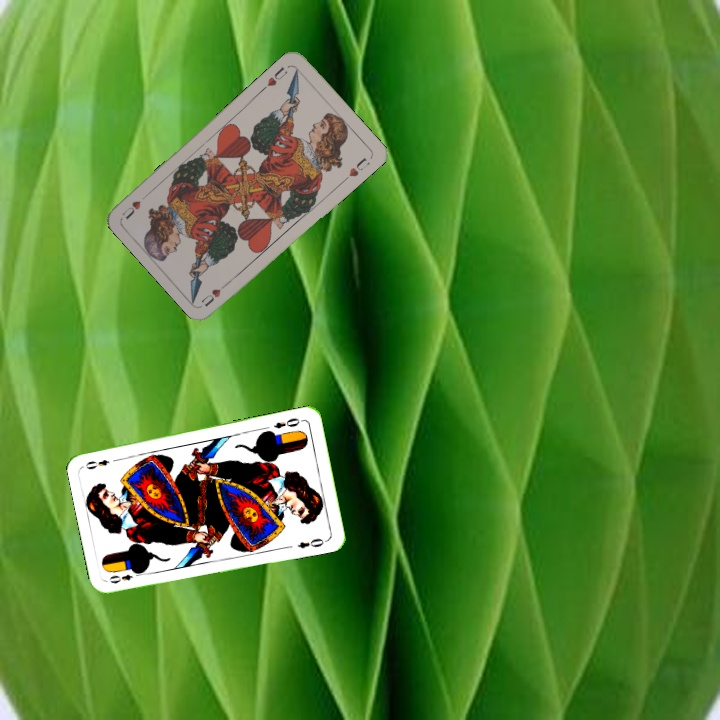EO: (105, 567, 144, 586), (270, 414, 306, 432)
HU: (197, 277, 232, 309), (258, 62, 290, 93)
